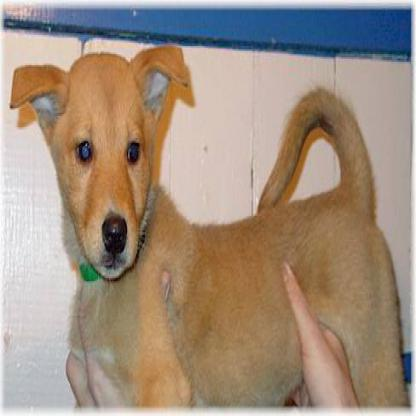dog: (23, 13, 210, 355)
